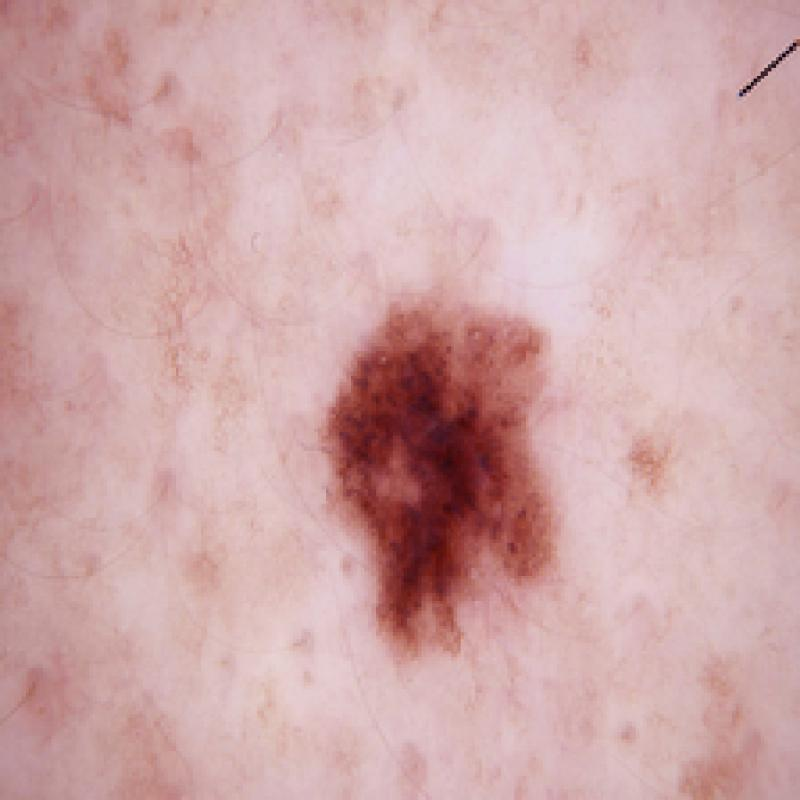benign: (268, 262, 598, 670)
